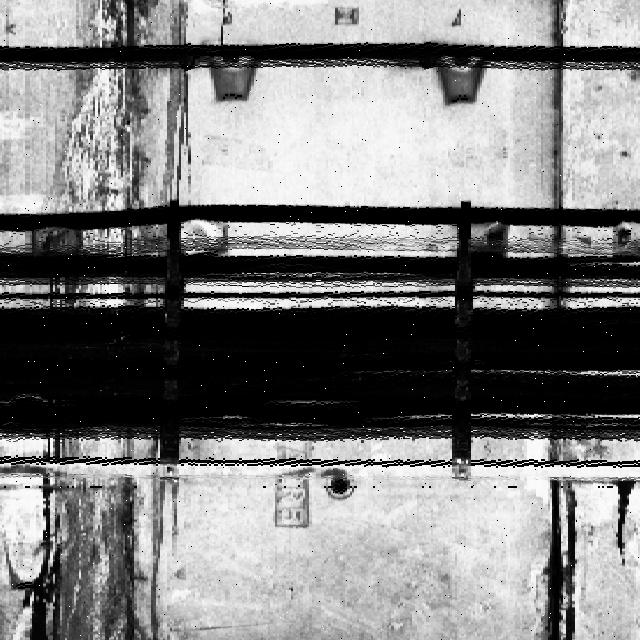leakage: (46, 1, 188, 310), (25, 437, 174, 640), (536, 483, 591, 639)
